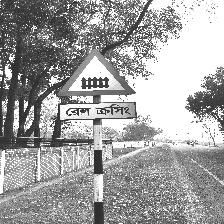Rail-crossing: (56, 49, 138, 122)
